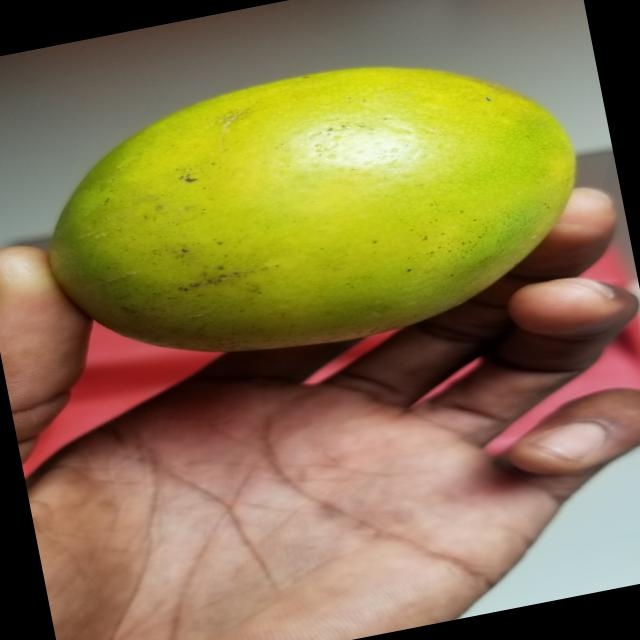agrume: (22, 22, 594, 392)
